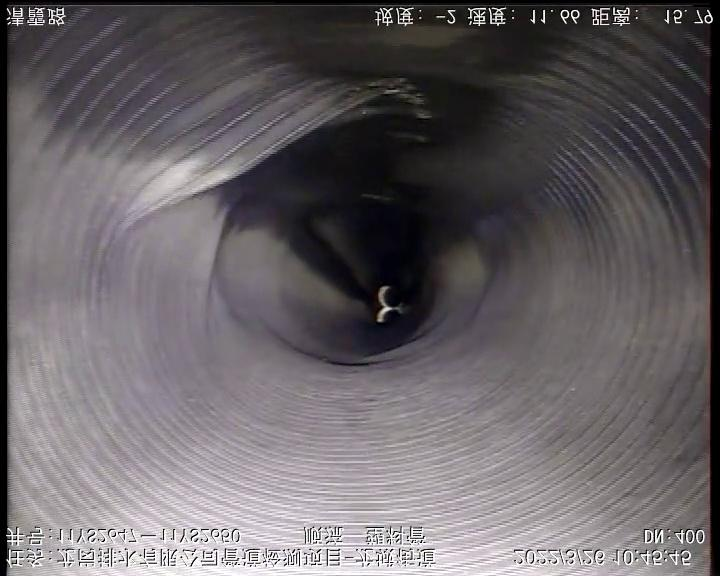BX: (113, 68, 403, 246)
